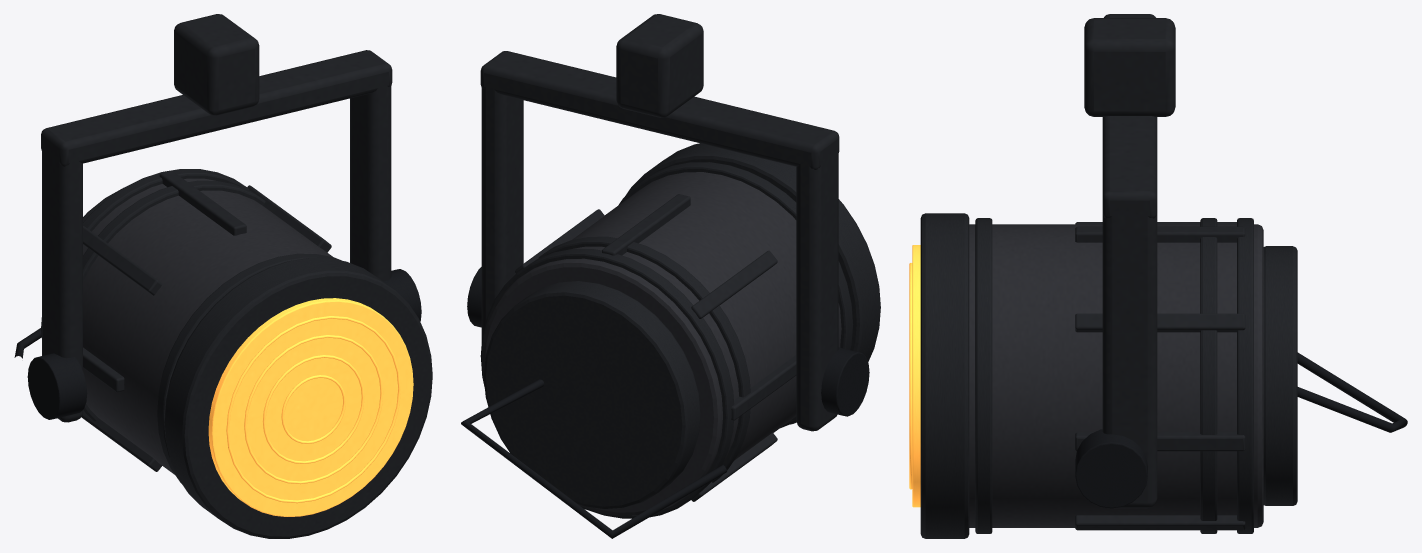
Rendered from 12_stage_spotlight.glb.
3 renders of one model, left to right at view 1: azimuth 30°, elevation 25°; view 2: azimuth 150°, elevation 25°; view 3: azimuth 270°, elevation 25°, orthographic. The views are drawn at different scales.
Visible parts, largest first — view 1: 12_stage_spotlight__amber_fresnel_lens, 12_stage_spotlight__housing, 12_stage_spotlight__front_bezel, 12_stage_spotlight__yoke_top, 12_stage_spotlight__yoke_side, 12_stage_spotlight__yoke_side.001, 12_stage_spotlight__mounting_clamp, 12_stage_spotlight__tilt_knob, 12_stage_spotlight__housing_ring, 12_stage_spotlight__housing_ring.001, 12_stage_spotlight__fresnel_ring.003, 12_stage_spotlight__housing_ring.002 (+9 smaller); view 2: 12_stage_spotlight__rear_cover, 12_stage_spotlight__housing, 12_stage_spotlight__yoke_top, 12_stage_spotlight__yoke_side, 12_stage_spotlight__yoke_side.001, 12_stage_spotlight__mounting_clamp, 12_stage_spotlight__front_bezel, 12_stage_spotlight__housing_ring.002, 12_stage_spotlight__housing_ring.001, 12_stage_spotlight__power_cord, 12_stage_spotlight__housing_ring, 12_stage_spotlight__tilt_knob (+6 smaller); view 3: 12_stage_spotlight__housing, 12_stage_spotlight__front_bezel, 12_stage_spotlight__yoke_side.001, 12_stage_spotlight__rear_cover, 12_stage_spotlight__mounting_clamp, 12_stage_spotlight__yoke_top, 12_stage_spotlight__housing_ring, 12_stage_spotlight__housing_ring.002, 12_stage_spotlight__housing_ring.001, 12_stage_spotlight__tilt_knob.001, 12_stage_spotlight__cooling_rib.007, 12_stage_spotlight__power_cord (+5 smaller).
Part boxes in pixels (left/top/right/bottom): 12_stage_spotlight__amber_fresnel_lens: left=208, top=298, right=413, bottom=516; 12_stage_spotlight__housing: left=83, top=178, right=332, bottom=474; 12_stage_spotlight__front_bezel: left=164, top=258, right=432, bottom=538; 12_stage_spotlight__yoke_top: left=41, top=50, right=392, bottom=166; 12_stage_spotlight__yoke_side: left=42, top=147, right=82, bottom=422; 12_stage_spotlight__yoke_side.001: left=350, top=83, right=391, bottom=281; 12_stage_spotlight__mounting_clamp: left=174, top=14, right=259, bottom=115; 12_stage_spotlight__tilt_knob: left=27, top=353, right=87, bottom=419; 12_stage_spotlight__housing_ring: left=157, top=253, right=341, bottom=483; 12_stage_spotlight__housing_ring.001: left=83, top=180, right=265, bottom=421; 12_stage_spotlight__fresnel_ring.003: left=226, top=316, right=400, bottom=503; 12_stage_spotlight__housing_ring.002: left=41, top=169, right=248, bottom=337; 12_stage_spotlight__rear_cover: left=483, top=281, right=700, bottom=508; 12_stage_spotlight__housing: left=482, top=172, right=841, bottom=515; 12_stage_spotlight__yoke_top: left=480, top=51, right=839, bottom=169; 12_stage_spotlight__yoke_side: left=796, top=150, right=838, bottom=431; 12_stage_spotlight__yoke_side.001: left=481, top=83, right=523, bottom=341; 12_stage_spotlight__mounting_clamp: left=616, top=14, right=703, bottom=117; 12_stage_spotlight__front_bezel: left=625, top=143, right=880, bottom=424; 12_stage_spotlight__housing_ring.002: left=480, top=249, right=734, bottom=518; 12_stage_spotlight__housing_ring.001: left=538, top=236, right=750, bottom=482; 12_stage_spotlight__power_cord: left=461, top=379, right=726, bottom=538; 12_stage_spotlight__housing_ring: left=619, top=162, right=853, bottom=427; 12_stage_spotlight__tilt_knob: left=821, top=347, right=869, bottom=416; 12_stage_spotlight__housing: left=969, top=224, right=1263, bottom=527; 12_stage_spotlight__front_bezel: left=920, top=213, right=969, bottom=538; 12_stage_spotlight__yoke_side.001: left=1102, top=211, right=1157, bottom=508; 12_stage_spotlight__rear_cover: left=1263, top=246, right=1297, bottom=505; 12_stage_spotlight__mounting_clamp: left=1084, top=18, right=1175, bottom=116; 12_stage_spotlight__yoke_top: left=1102, top=14, right=1157, bottom=218; 12_stage_spotlight__housing_ring: left=975, top=218, right=992, bottom=533; 12_stage_spotlight__housing_ring.002: left=1237, top=218, right=1253, bottom=533; 12_stage_spotlight__housing_ring.001: left=1200, top=218, right=1217, bottom=533; 12_stage_spotlight__tilt_knob.001: left=1075, top=429, right=1147, bottom=508; 12_stage_spotlight__cooling_rib.007: left=1075, top=515, right=1245, bottom=530; 12_stage_spotlight__power_cord: left=1297, top=352, right=1407, bottom=432.
Size of the model in its own units: 0.388 by 0.449 by 0.4098.
4 materials, 4 textured.
